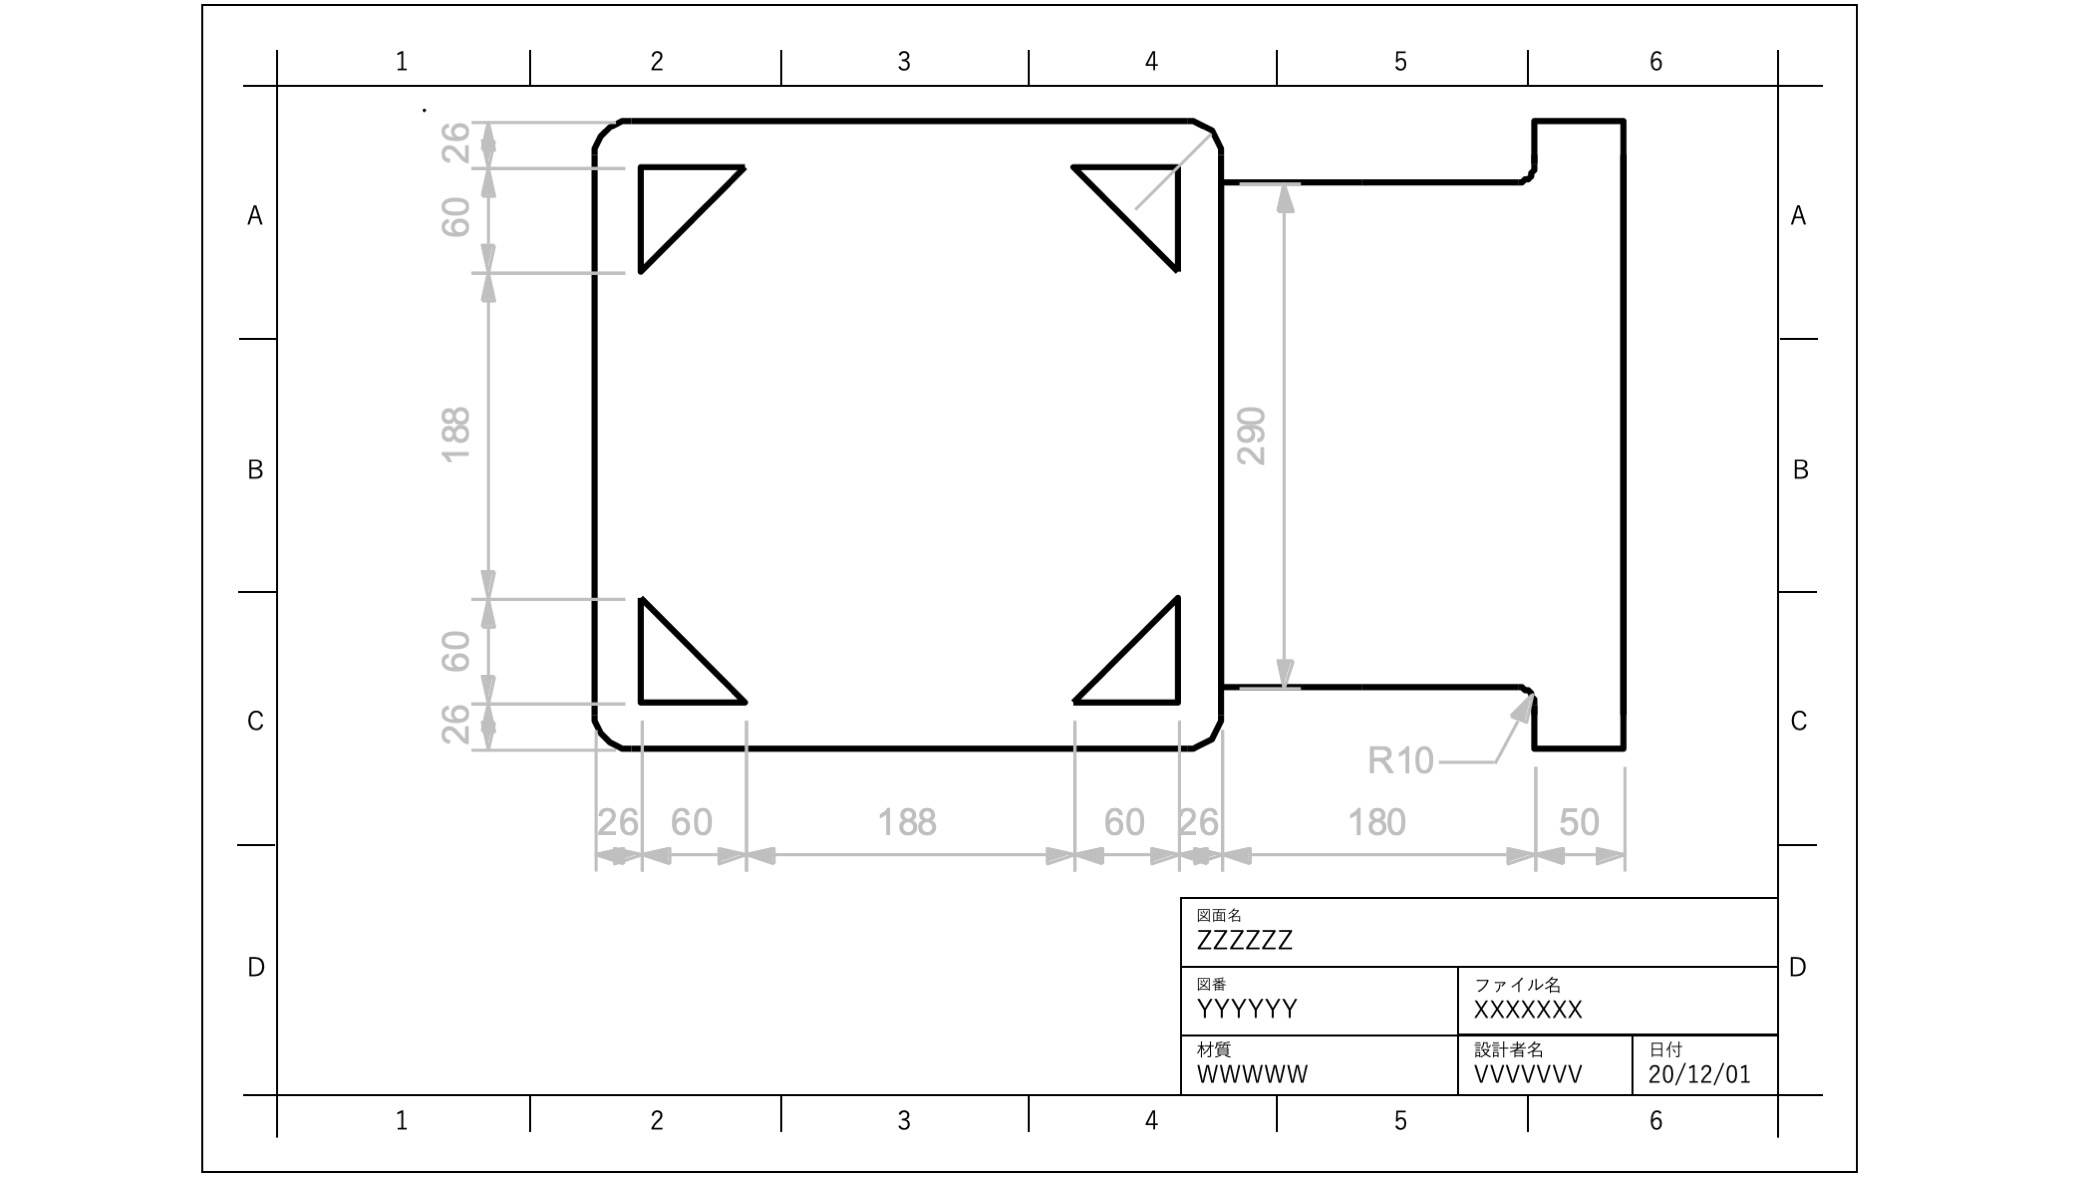triangle: (1062, 149, 1188, 286), (623, 147, 753, 280), (1062, 588, 1194, 715), (630, 588, 749, 718)
